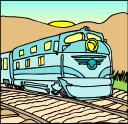train: (1, 26, 115, 97)
